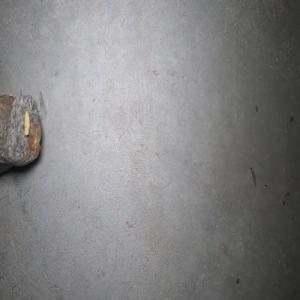Rock: (0, 89, 41, 173)
